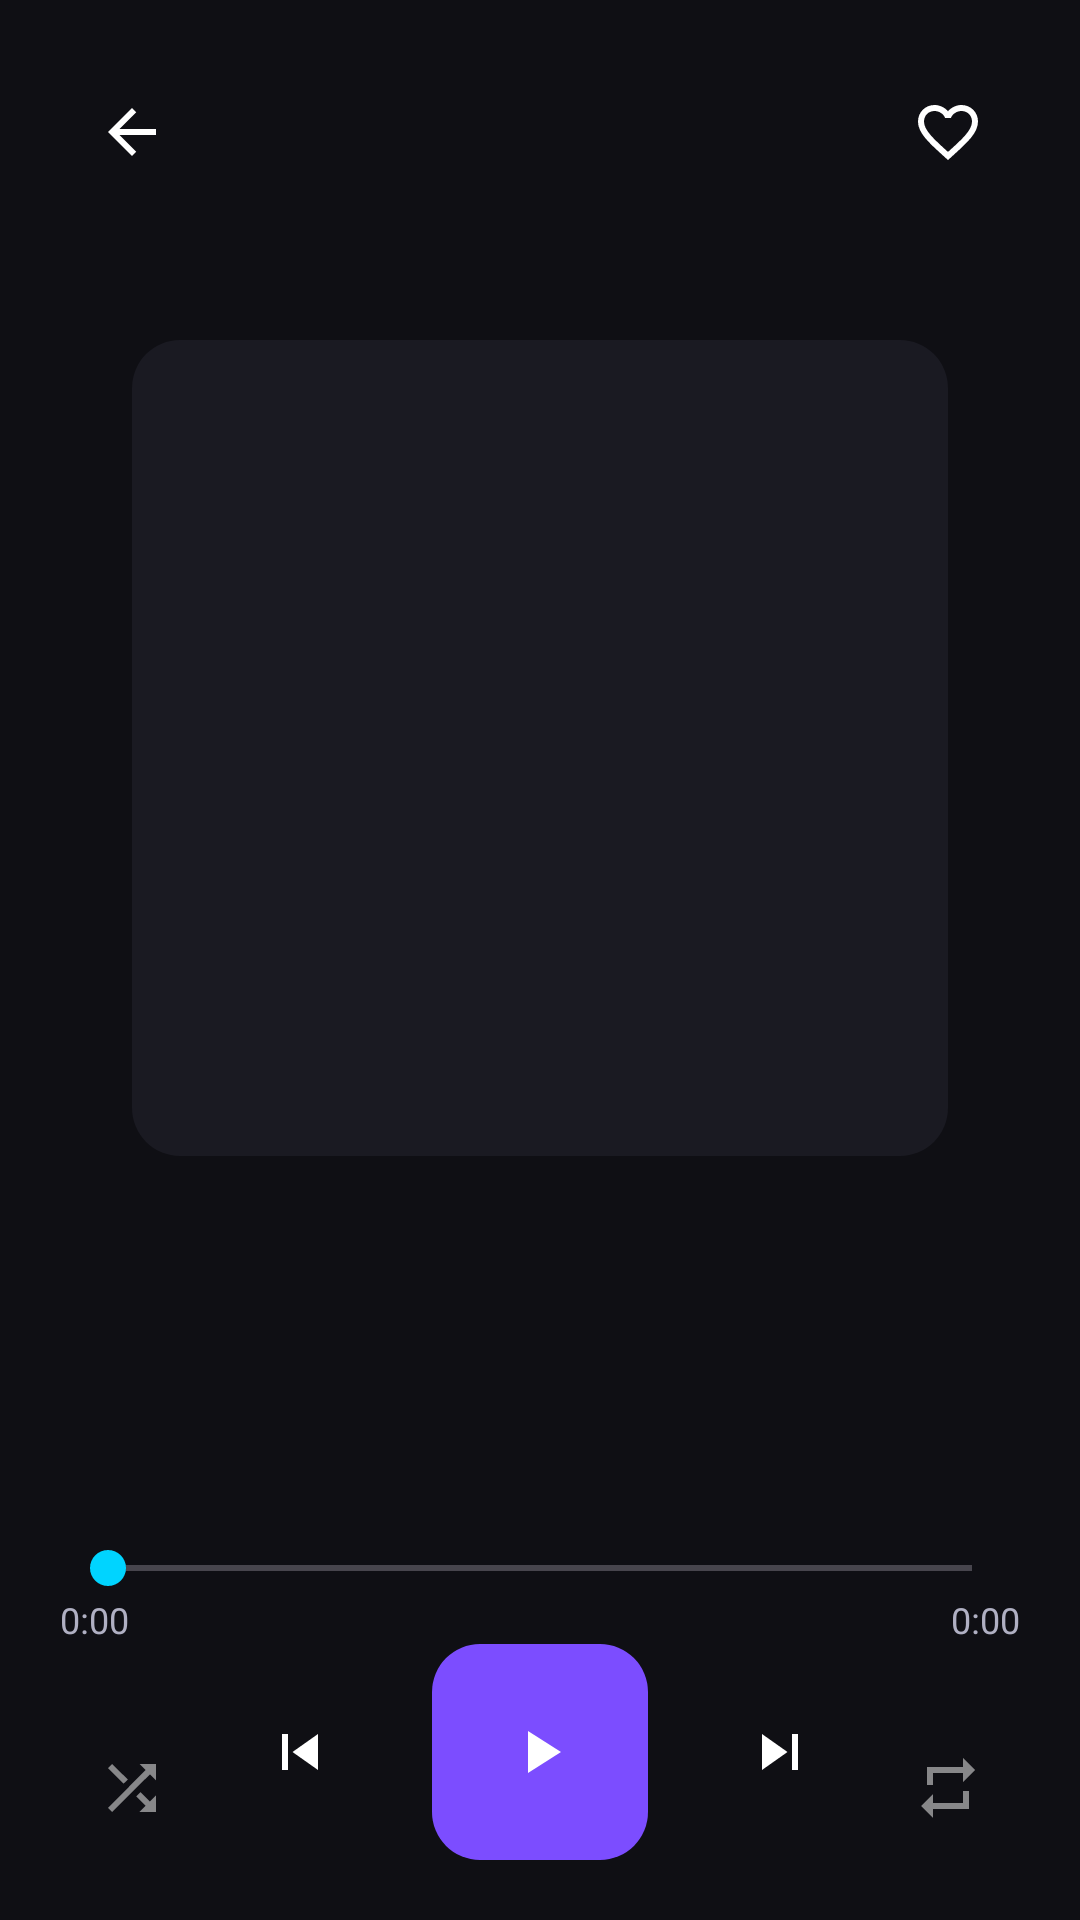

Where to tap for icons on this 1080x1920 app screen, as [x,y]:
Aléatoire: [132,1788]
Favori: [948,132]
Lecture: [540,1752]
Précédent: [300,1752]
Retour: [132,132]
Répéter: [948,1788]
Suivant: [780,1752]
